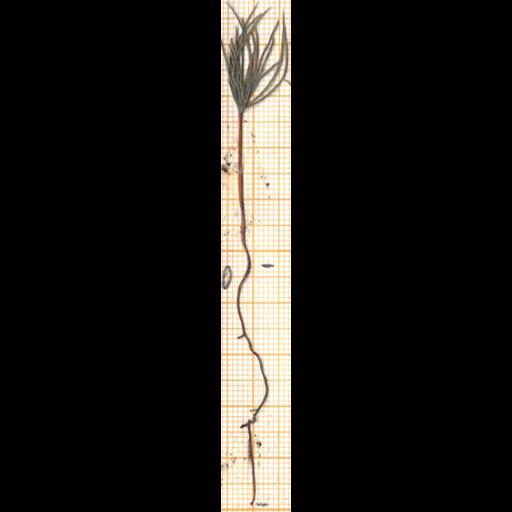flowerPinus: (221, 4, 289, 115)
rootPinus: (235, 271, 269, 503)
stemPinus: (237, 113, 251, 267)
